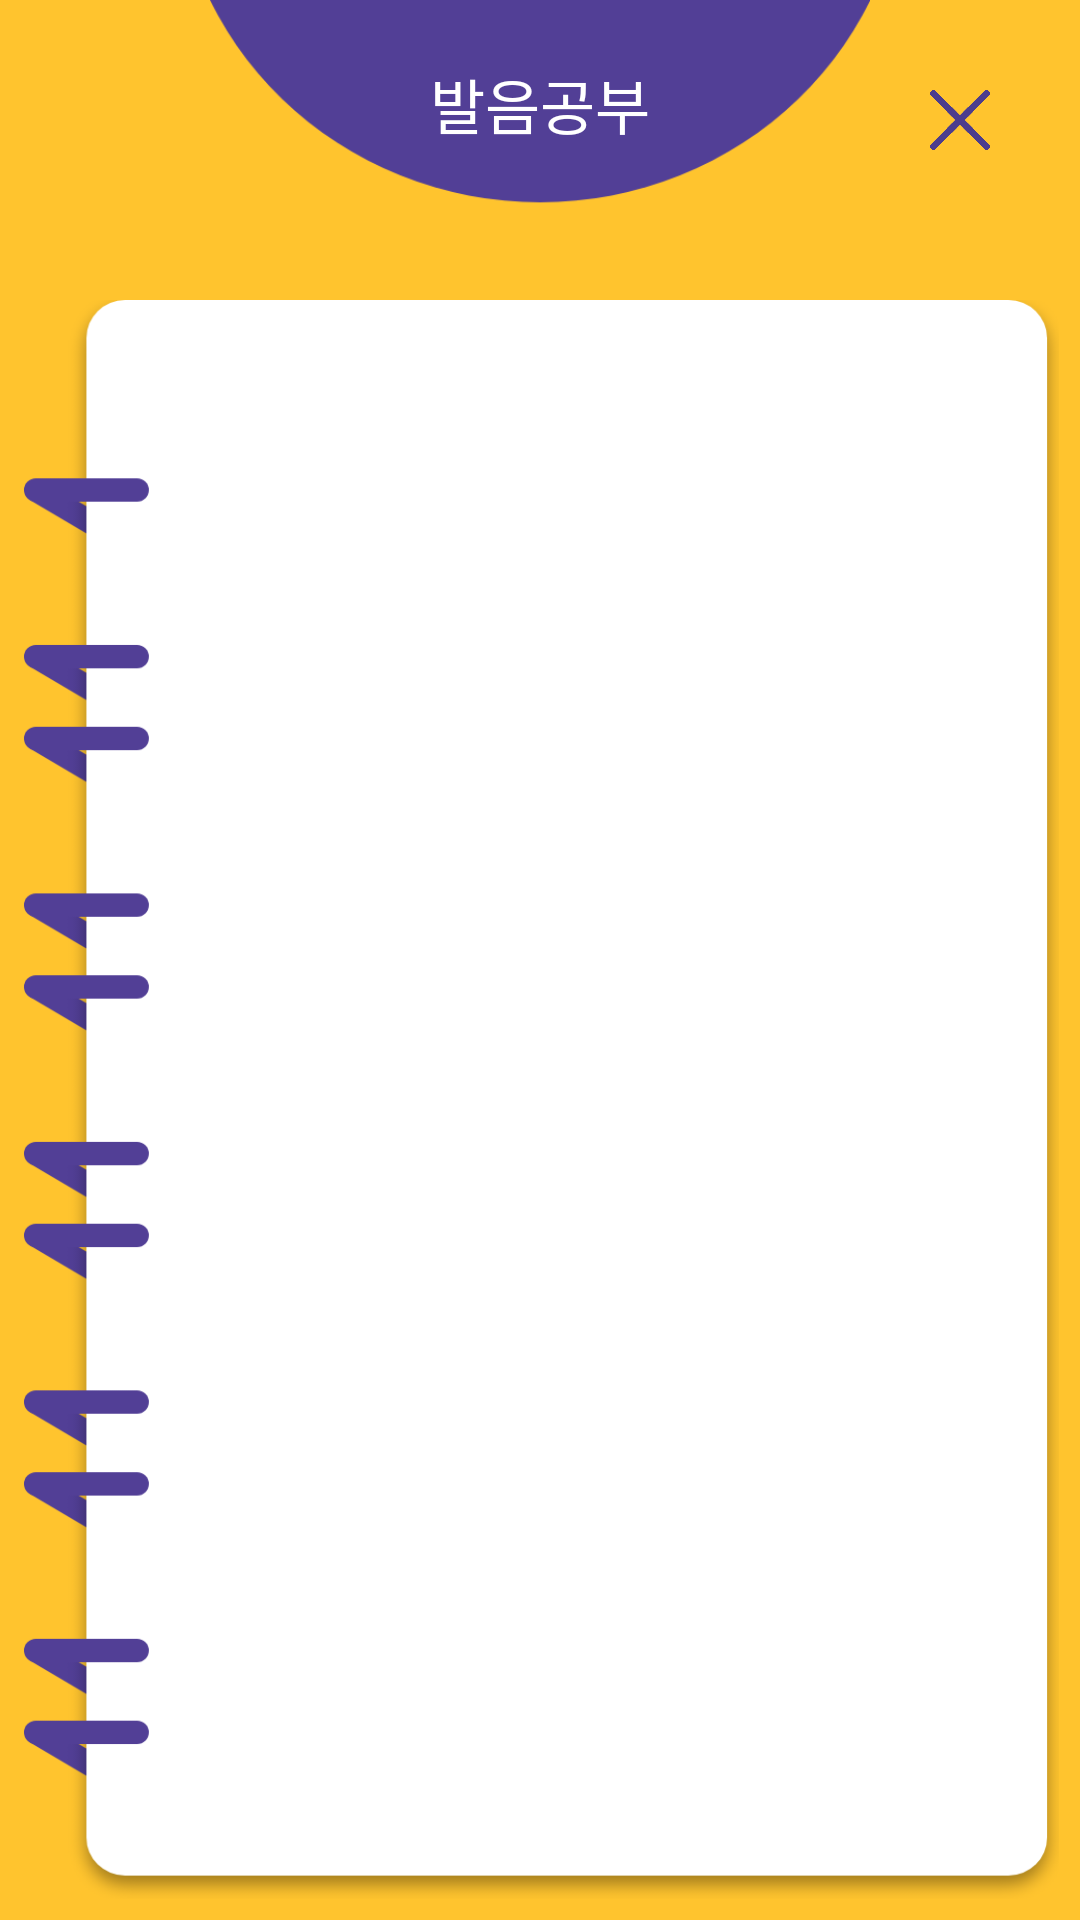

Named icons in this screenshot (1080px x 1920px) and their centers, point (x, y):
close: point (960, 120)
